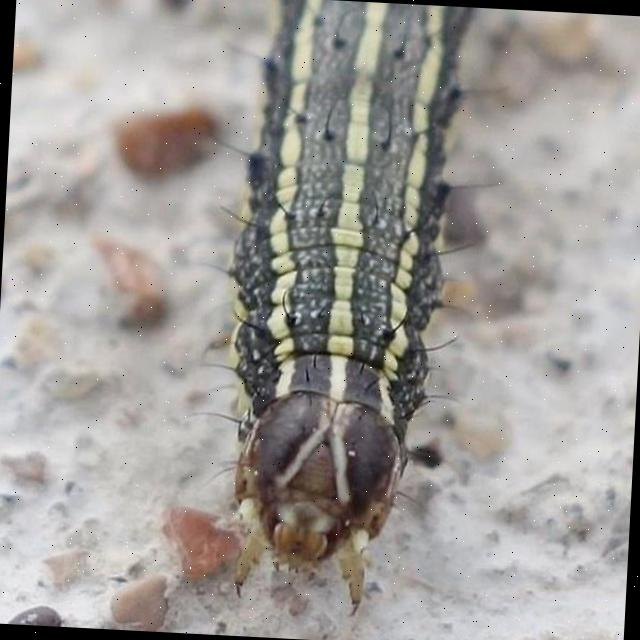worm: (180, 1, 509, 622)
